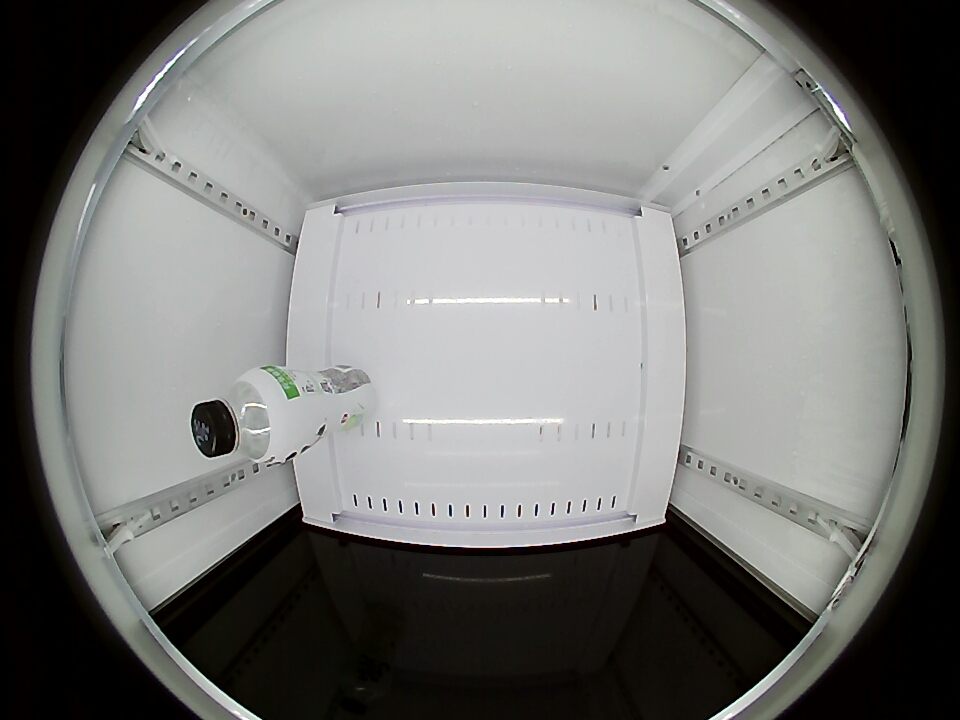yuanqishui: (191, 366, 299, 463)
